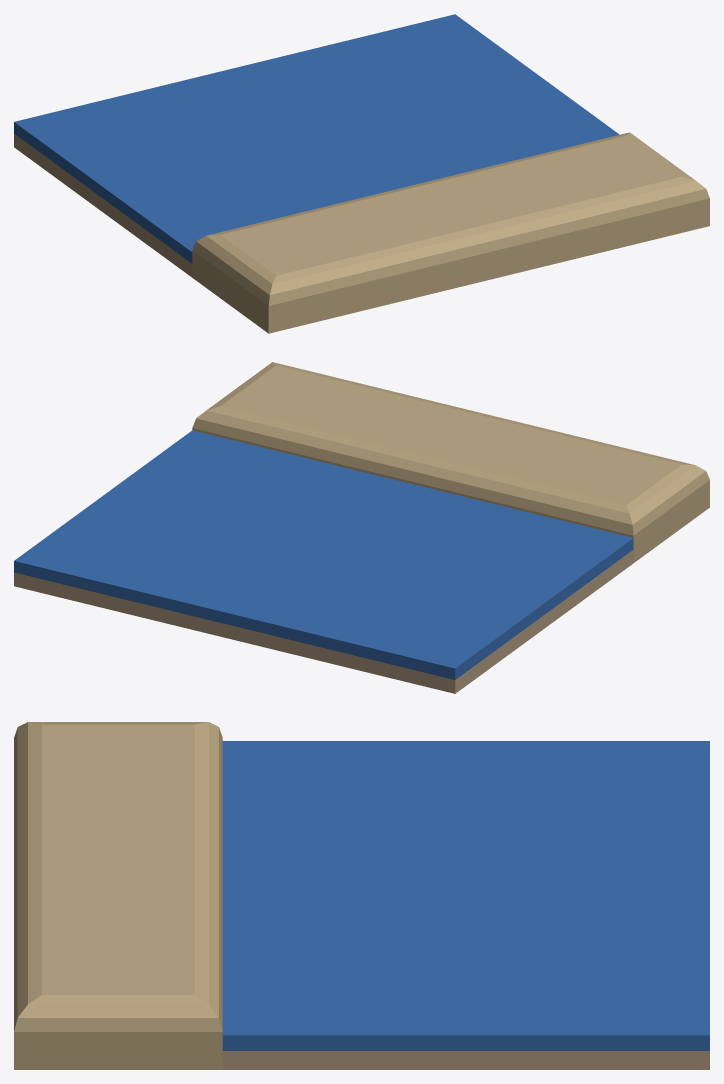
File: river_bank_rock.glb
3 renders of one model, top to bottom at view 1: azimuth 30°, elevation 25°; view 2: azimuth 150°, elevation 25°; view 3: azimuth 270°, elevation 25°, orthographic. The views are drawn at different scales.
Visible parts, largest first — view 1: river_bank_rock_water, river_bank_rock_bank, river_bank_rock_bed; view 2: river_bank_rock_water, river_bank_rock_bank, river_bank_rock_bed; view 3: river_bank_rock_water, river_bank_rock_bank, river_bank_rock_bed.
Boxes of the visible parts, left/top/right/bottom form: river_bank_rock_water: left=14, top=14, right=619, bottom=263; river_bank_rock_bank: left=192, top=132, right=709, bottom=333; river_bank_rock_bed: left=14, top=133, right=192, bottom=277; river_bank_rock_water: left=14, top=430, right=633, bottom=679; river_bank_rock_bank: left=192, top=362, right=709, bottom=562; river_bank_rock_bed: left=14, top=550, right=633, bottom=693; river_bank_rock_water: left=222, top=741, right=709, bottom=1050; river_bank_rock_bank: left=14, top=722, right=222, bottom=1069; river_bank_rock_bed: left=222, top=1051, right=709, bottom=1069.
Size of the model in its own units: 2 by 0.2 by 2.
